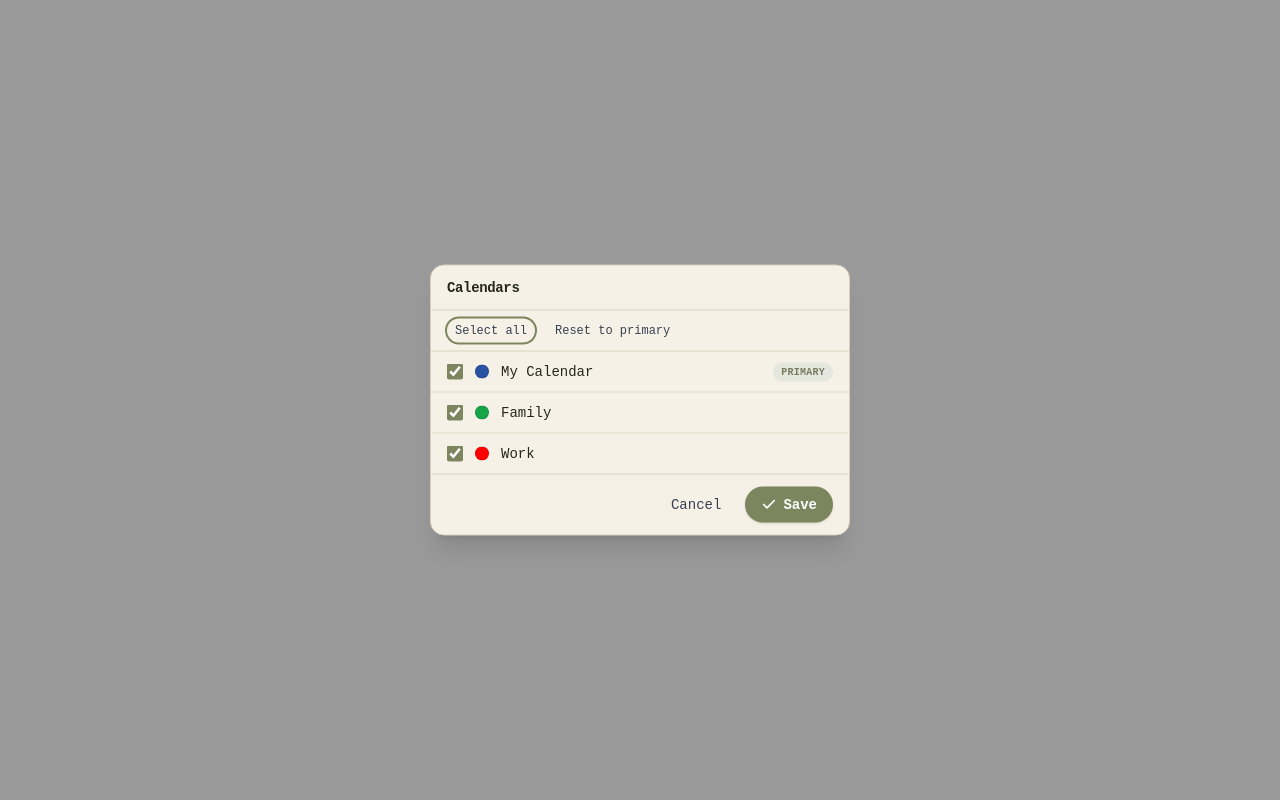
SourceCalendarPicker › Reset to primary selects only the primary calendar, obeying minimum-one
Click the button "Reset to primary".
click(613, 330)  # box [547,318,678,342]
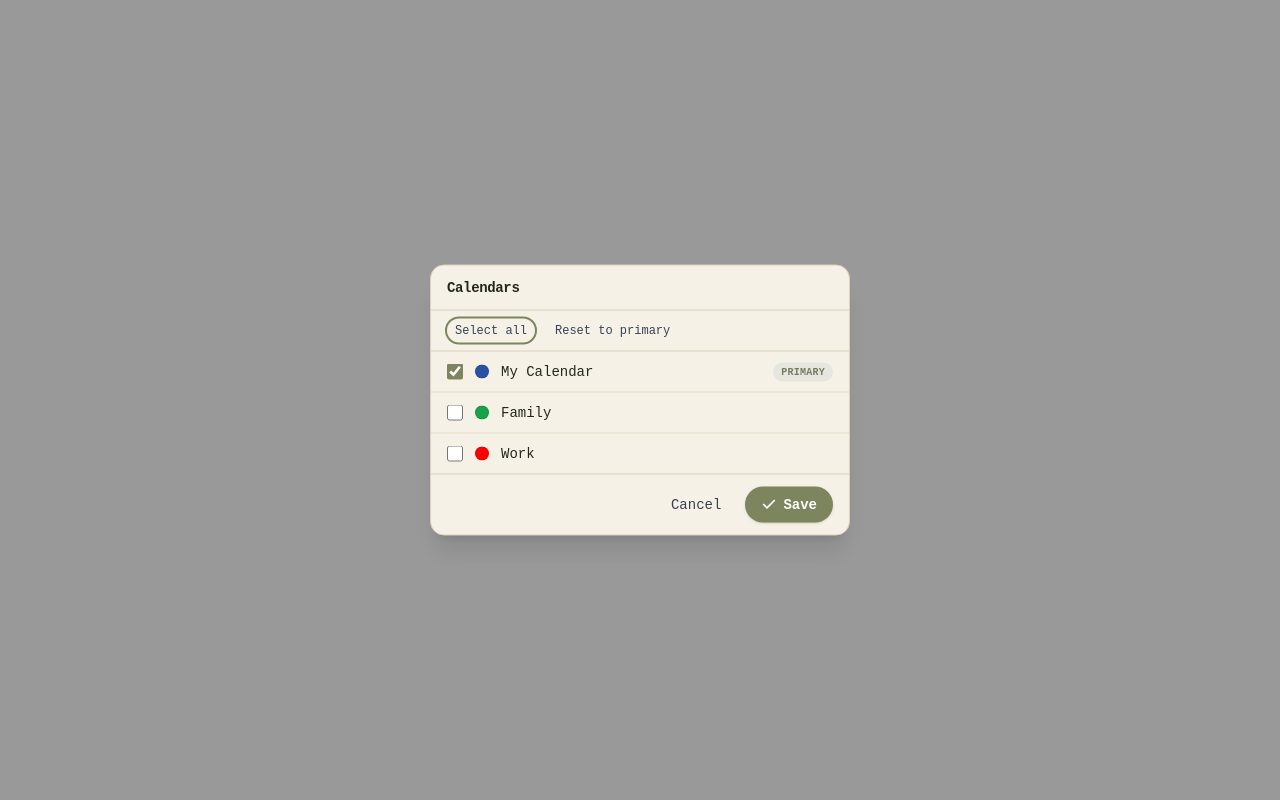
Expected: the checkbox labelled "My Calendar Primary" is checked, [447,364,463,380]
Result: the checkbox labelled "Work" is not checked at [447,446,463,462]
Result: the checkbox labelled "Family" is not checked at [447,404,463,420]
